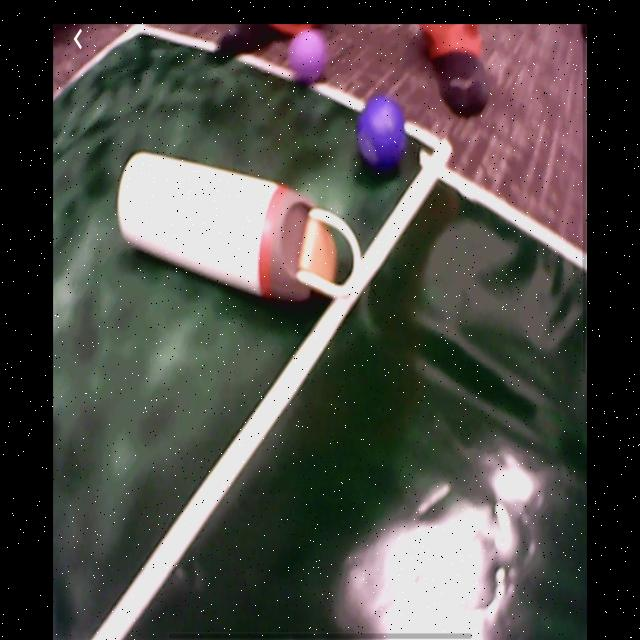ball: (358, 96, 407, 172), (288, 31, 327, 87)
